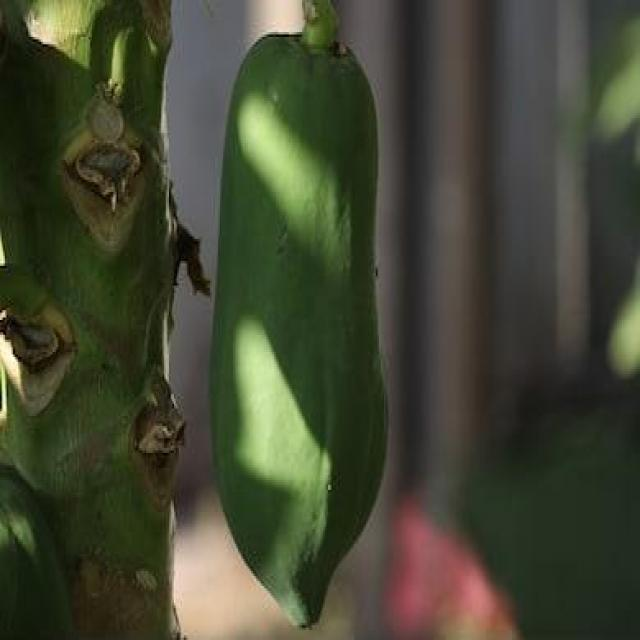Pepaya unrippen: (204, 31, 396, 633)
